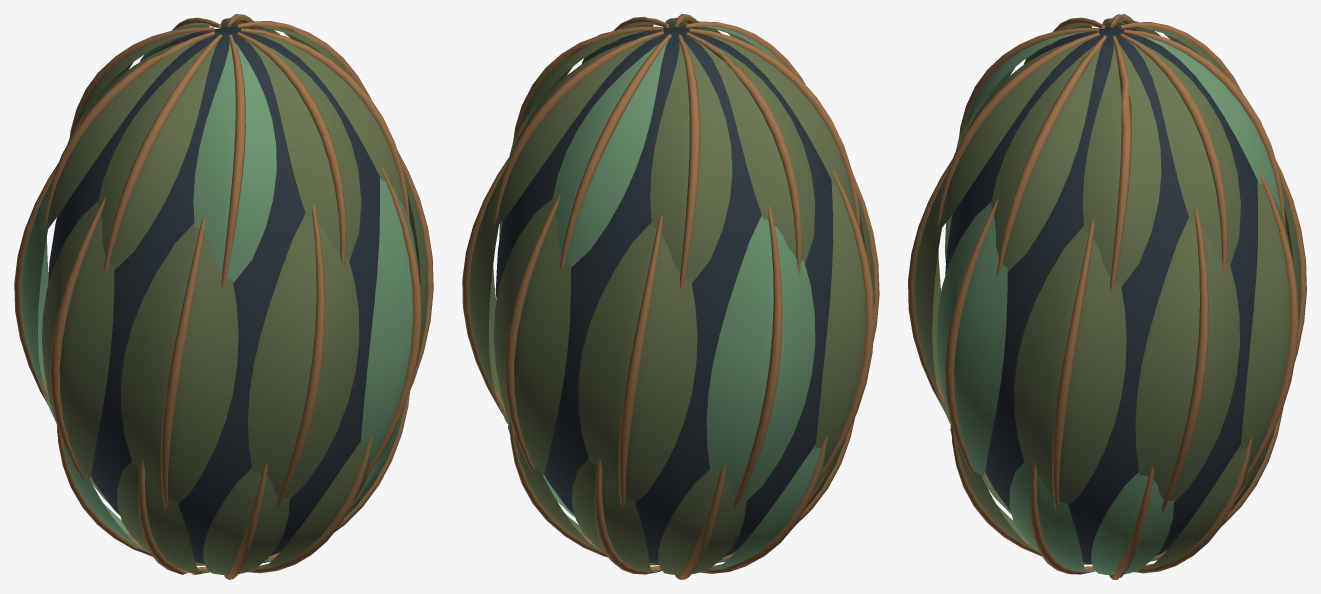
File: clutch_0.glb
The picture shows the model from 3 angles, left to right: view 1: azimuth 30°, elevation 25°; view 2: azimuth 150°, elevation 25°; view 3: azimuth 270°, elevation 25°; orthographic projection.
Visible parts, largest first — view 1: clutch_0; view 2: clutch_0; view 3: clutch_0.
Boxes of the visible parts, bbox=[...] form: clutch_0: bbox=[14, 14, 433, 579]; clutch_0: bbox=[462, 14, 879, 579]; clutch_0: bbox=[908, 14, 1306, 579].
Bounding box in the file's own units: 1.78 × 2.47 × 1.68.
